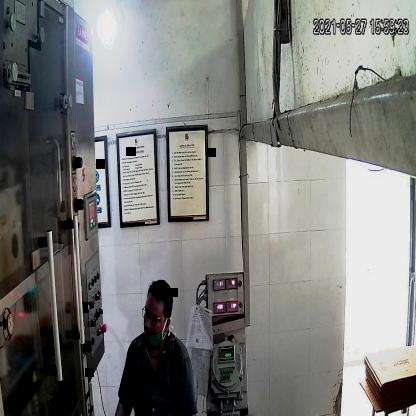goggles: (140, 303, 172, 327)
